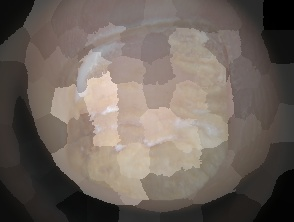Nail_psoriasis: (31, 0, 277, 222)
